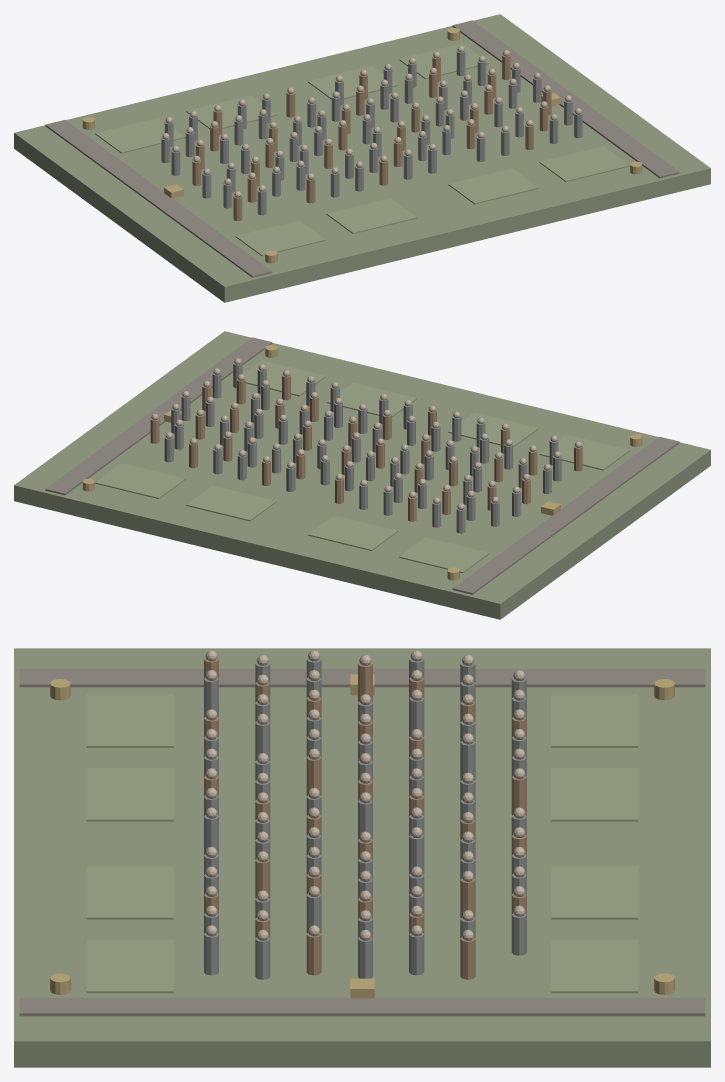
Rendered from chartist_kennington_common.glb.
The picture shows the model from 3 angles, top to bottom: view 1: azimuth 30°, elevation 25°; view 2: azimuth 150°, elevation 25°; view 3: azimuth 270°, elevation 25°; orthographic projection. The views are drawn at different scales.
Parts seen in each view (by area): view 1: geometry_0; view 2: geometry_0; view 3: geometry_0.
Part boxes in pixels (x1,y1,x2,y2): geometry_0: (14, 14, 710, 302); geometry_0: (14, 331, 710, 619); geometry_0: (14, 648, 710, 1067).
Size of the model in its own units: 16 by 1.57 by 12.
